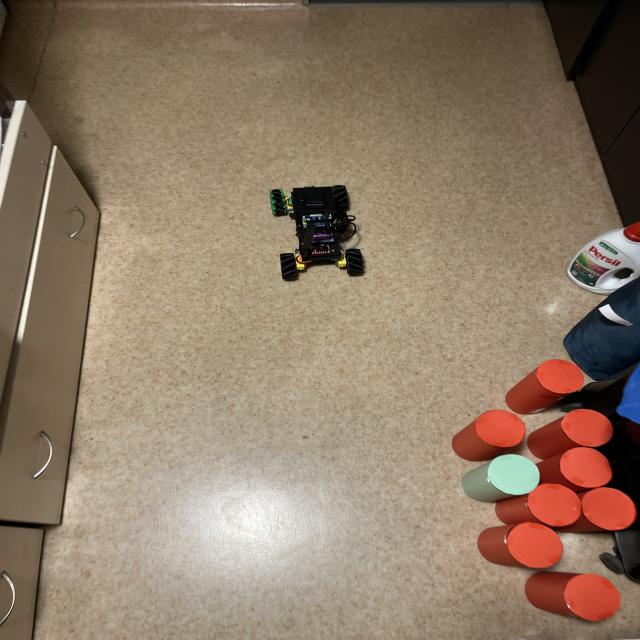robot: (270, 185, 364, 279)
